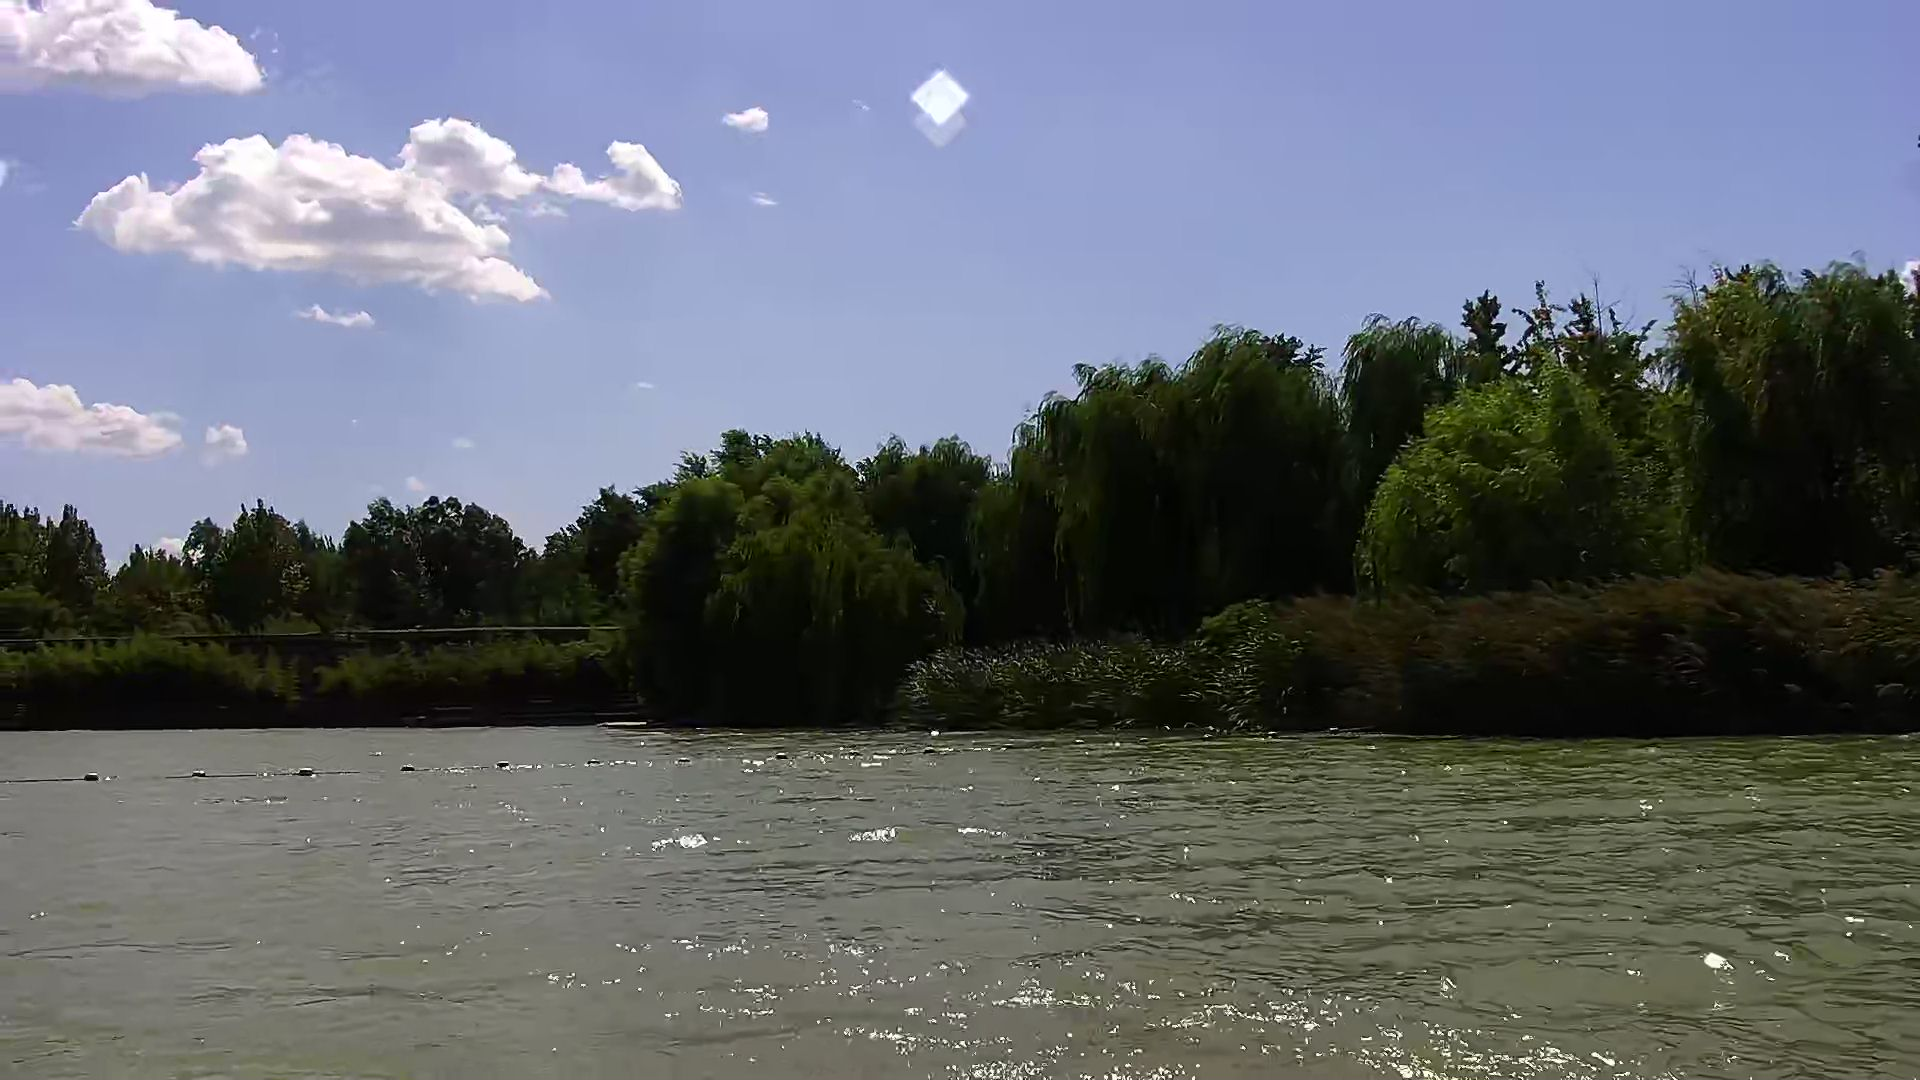ball: (291, 760, 322, 782), (393, 760, 425, 777), (80, 771, 109, 787), (183, 764, 207, 782)
